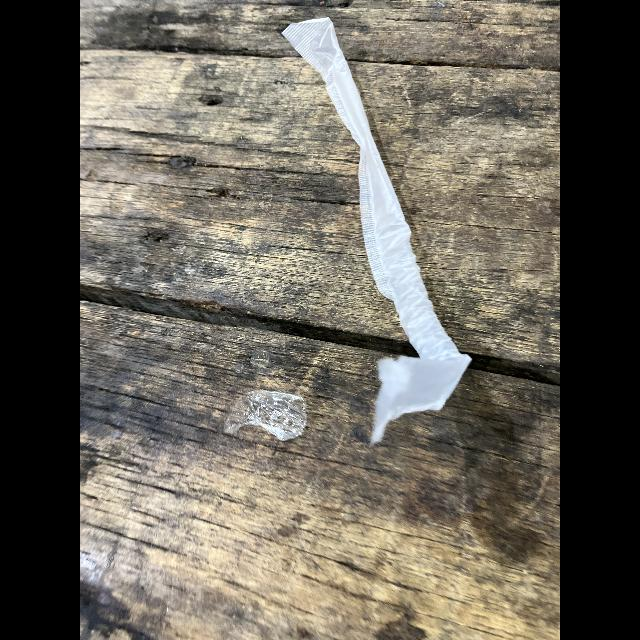scrap_plastic: (279, 14, 469, 440), (225, 382, 312, 452)
